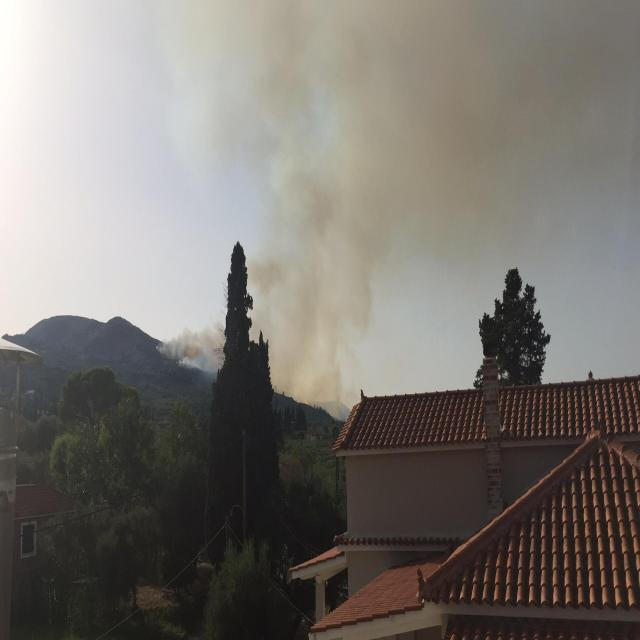smoke: (159, 5, 637, 414)
